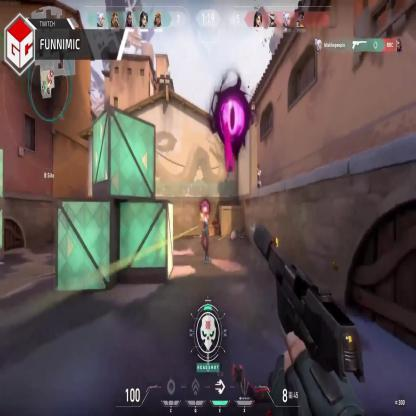enemy: (200, 200, 210, 266), (254, 164, 262, 191)
enemy_head: (202, 206, 208, 216), (256, 164, 260, 172)
